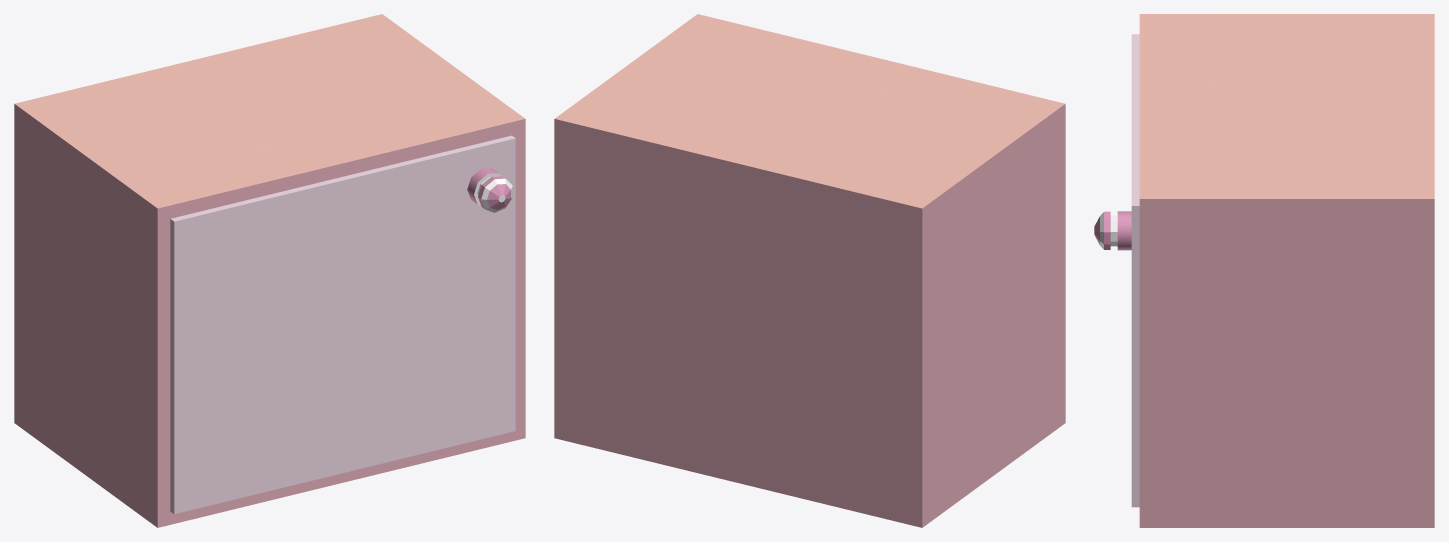
Rendered from Cabinet_Pink_Lower1.fbx.
The picture shows the model from 3 angles, left to right: view 1: azimuth 30°, elevation 25°; view 2: azimuth 150°, elevation 25°; view 3: azimuth 270°, elevation 25°; orthographic projection. The views are drawn at different scales.
Parts seen in each view (by area): view 1: Cabinet_Pink_Lower1.001, Cabinet_Pink_Lower1; view 2: Cabinet_Pink_Lower1.001; view 3: Cabinet_Pink_Lower1.001, Cabinet_Pink_Lower1.
Boxes of the visible parts, x1,y1,x2,y2 form: Cabinet_Pink_Lower1.001: (14, 14, 525, 527); Cabinet_Pink_Lower1: (170, 135, 515, 514); Cabinet_Pink_Lower1.001: (554, 14, 1065, 527); Cabinet_Pink_Lower1.001: (1139, 14, 1434, 527); Cabinet_Pink_Lower1: (1094, 34, 1139, 507).
Bounding box in the file's own units: 100 × 82.98 × 77.78.
